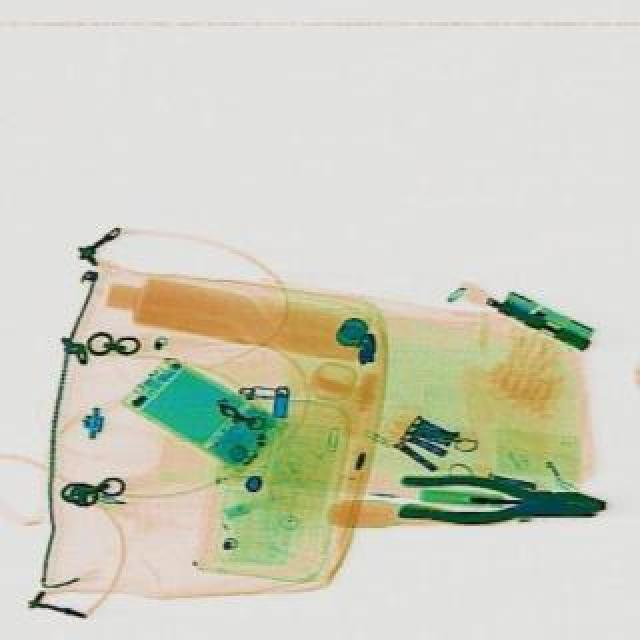wrench: (394, 470, 602, 530)
